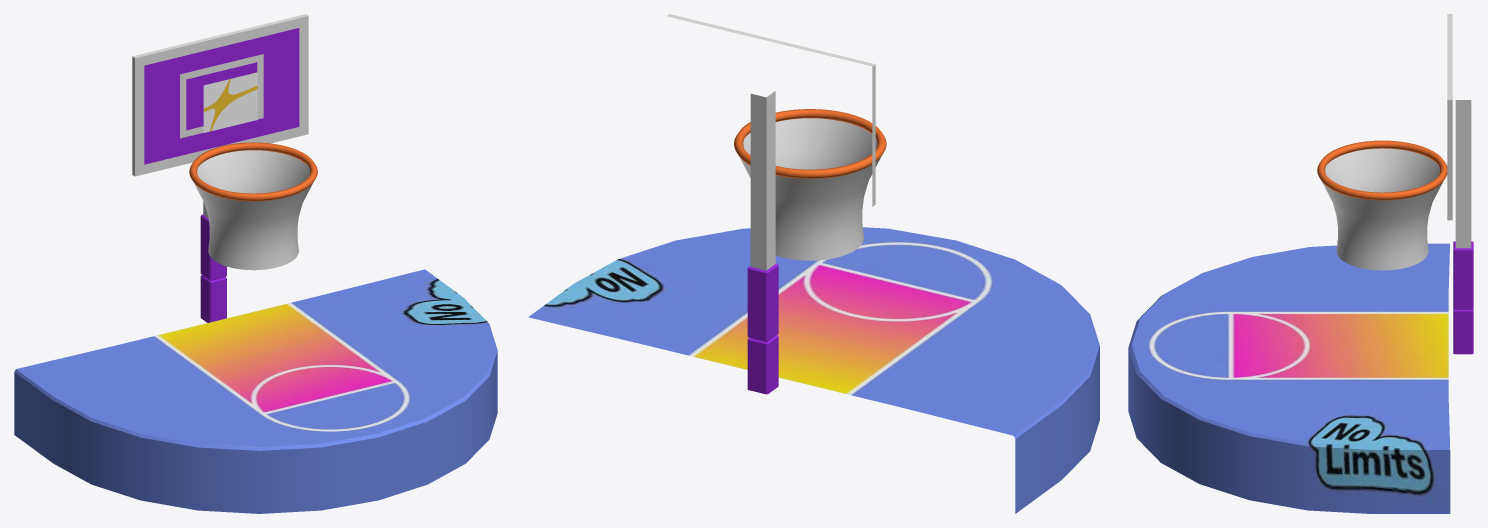
File: basketball-transformed.glb
3 renders of one model, left to right at view 1: azimuth 30°, elevation 25°; view 2: azimuth 150°, elevation 25°; view 3: azimuth 270°, elevation 25°, orthographic. The views are drawn at different scales.
Parts seen in each view (by area): view 1: basketballBase, basketballPollPurple, basketballBasketNet, basketballPollWhite, basketballPlankSticker, basketballBasketCircle; view 2: basketballBase, basketballBasketNet, basketballPollWhite, basketballPollPurple, basketballBasketCircle; view 3: basketballBase, basketballBasketNet, basketballPollWhite, basketballBasketCircle, basketballPollPurple.
Part boxes in pixels (x1,y1,x2,y2): basketballBase: (14, 269, 497, 513); basketballPollPurple: (144, 28, 299, 322); basketballBasketNet: (194, 150, 313, 270); basketballPollWhite: (132, 14, 308, 218); basketballPlankSticker: (203, 72, 257, 132); basketballBasketCircle: (189, 142, 317, 201); basketballBase: (528, 227, 1099, 513); basketballBasketNet: (739, 118, 881, 260); basketballPollWhite: (667, 14, 875, 270); basketballPollPurple: (747, 263, 778, 394); basketballBasketCircle: (734, 109, 886, 178); basketballBase: (1128, 243, 1450, 513); basketballBasketNet: (1322, 148, 1443, 270); basketballPollWhite: (1447, 14, 1471, 248); basketballBasketCircle: (1317, 140, 1447, 200); basketballPollPurple: (1453, 241, 1473, 354).
Bounding box in the file's own units: 65.4 × 52.86 × 46.63.
Materials: 6 (3 with a texture image).
